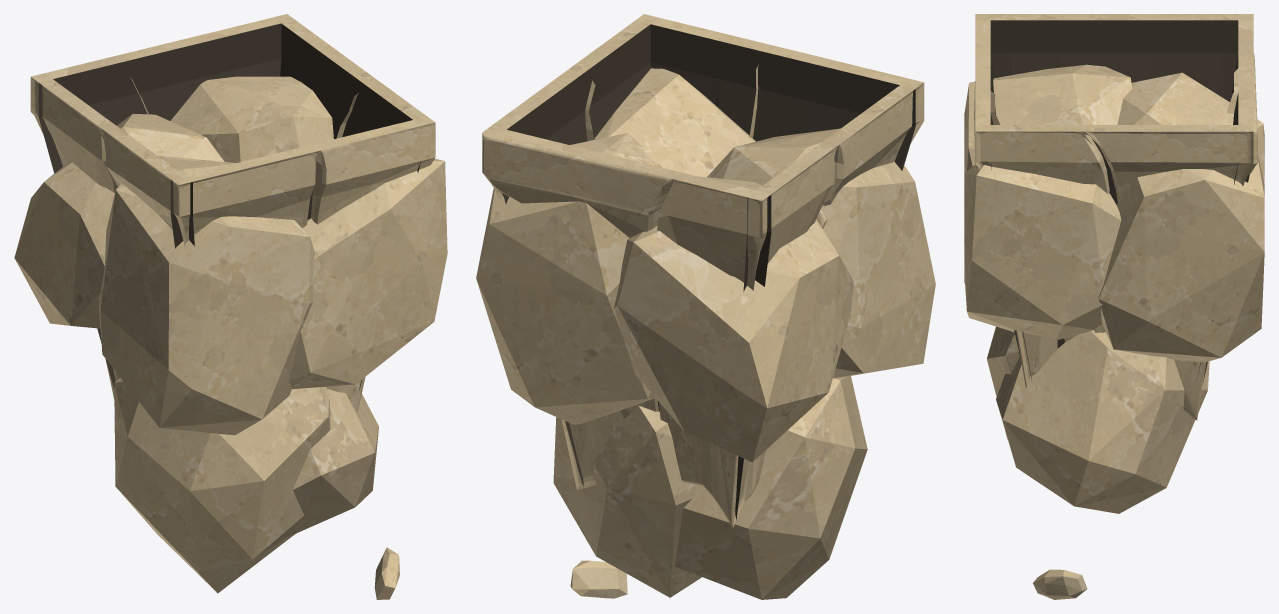
File: ground_bottom_island_10.glb
The picture shows the model from 3 angles, left to right: view 1: azimuth 30°, elevation 25°; view 2: azimuth 150°, elevation 25°; view 3: azimuth 270°, elevation 25°; orthographic projection. The views are drawn at different scales.
Parts seen in each view (by area): view 1: GroundBottomIsland10_Body; view 2: GroundBottomIsland10_Body; view 3: GroundBottomIsland10_Body.
Boxes of the visible parts, <box> form: GroundBottomIsland10_Body: <box>14,14,447,599</box>; GroundBottomIsland10_Body: <box>476,14,935,599</box>; GroundBottomIsland10_Body: <box>964,14,1264,599</box>.
Bounding box in the file's own units: 1.08 × 1.87 × 1.08.
Materials: 15 (14 with a texture image).
